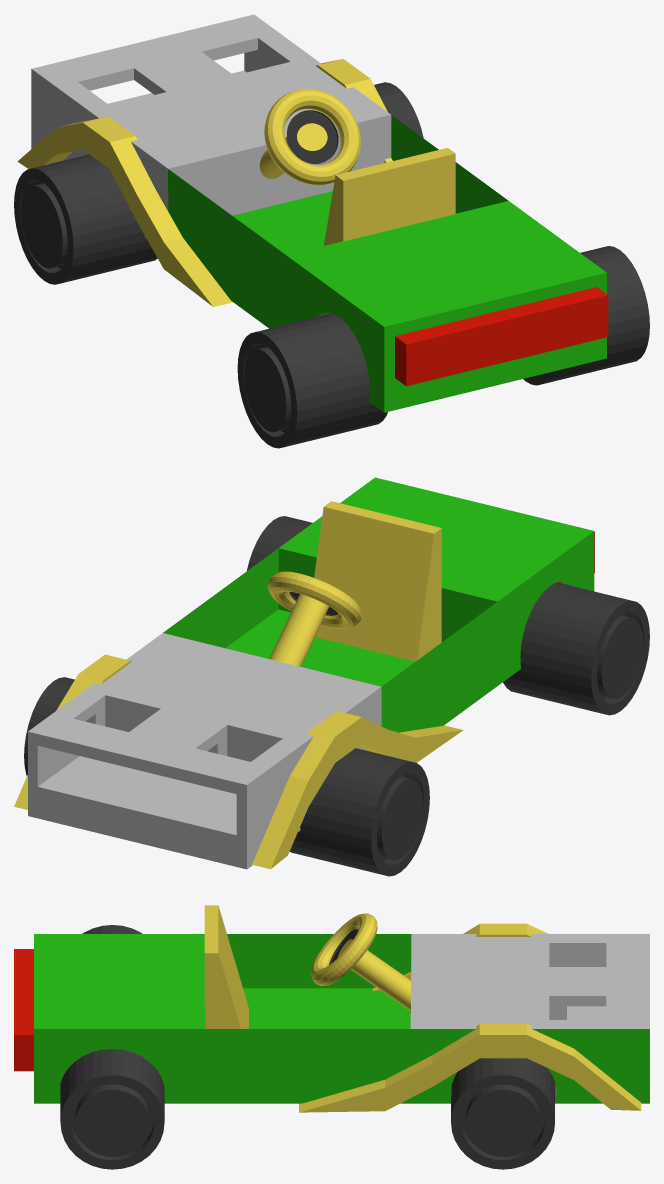
Rendered from CyberCar.glb.
3 views of the same model, one above another, from view 1: azimuth 30°, elevation 25°; view 2: azimuth 150°, elevation 25°; view 3: azimuth 270°, elevation 25° (orthographic). The views are drawn at different scales.
Visible parts, largest first — view 1: CyberCarBody, Cylinder.003, rearbumper, trim, ChairBack, OuterSteeringWheel, InnerInterface, steeringwheelShaft; view 2: CyberCarBody, Cylinder.003, ChairBack, trim, OuterSteeringWheel, steeringwheelShaft; view 3: CyberCarBody, Cylinder.003, trim, ChairBack, rearbumper, OuterSteeringWheel, steeringwheelShaft.
Part boxes in pixels (box(x1,y1,x2,y2)): CyberCarBody: box(31, 14, 606, 412); Cylinder.003: box(14, 82, 649, 448); rearbumper: box(395, 287, 608, 386); trim: box(17, 59, 392, 306); ChairBack: box(324, 148, 455, 245); OuterSteeringWheel: box(264, 89, 360, 185); InnerInterface: box(287, 110, 338, 163); steeringwheelShaft: box(259, 123, 327, 178); CyberCarBody: box(28, 477, 594, 869); Cylinder.003: box(24, 516, 649, 876); ChairBack: box(314, 501, 441, 661); trim: box(14, 654, 463, 869); OuterSteeringWheel: box(267, 571, 361, 628); steeringwheelShaft: box(269, 594, 329, 666); CyberCarBody: box(34, 934, 649, 1103); Cylinder.003: box(60, 925, 554, 1169); trim: box(299, 923, 641, 1112); ChairBack: box(204, 905, 248, 1028); rearbumper: box(14, 949, 68, 1071); OuterSteeringWheel: box(311, 913, 377, 985); steeringwheelShaft: box(337, 939, 410, 1011).
Size of the model in its own units: 3.21 by 1.74 by 5.67.
